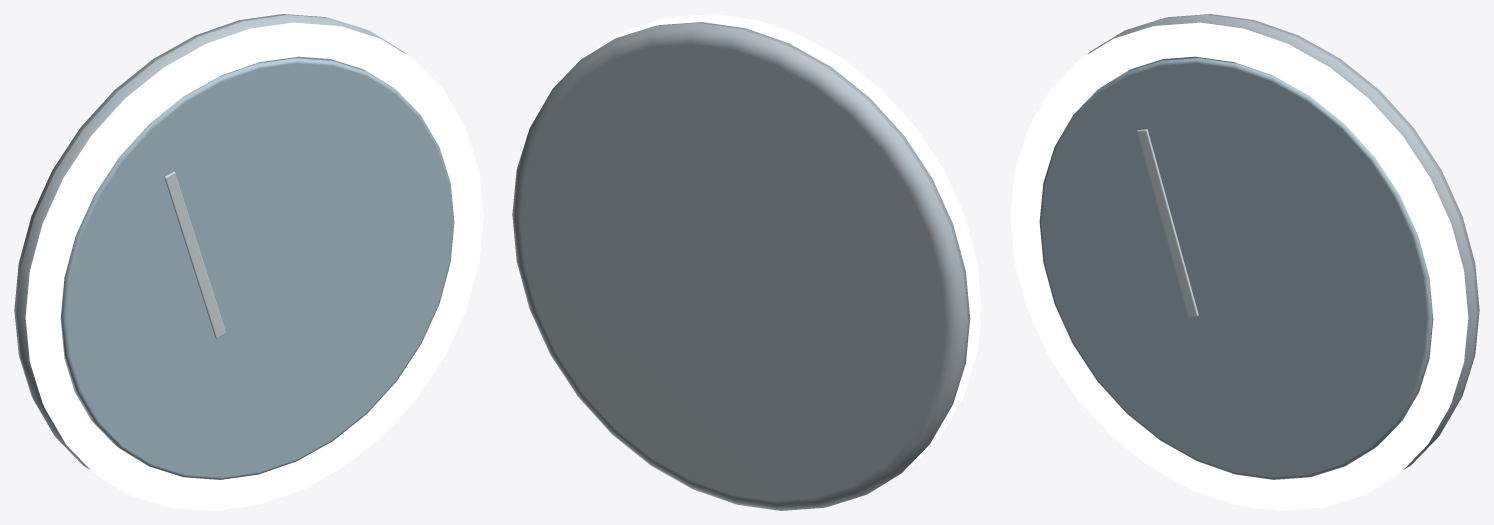
The model's file is bathroomMirrorBacklit.glb.
3 views of the same model, side by side, from view 1: azimuth 30°, elevation 25°; view 2: azimuth 150°, elevation 25°; view 3: azimuth 330°, elevation 25° (orthographic).
Parts seen in each view (by area): view 1: Round mirror glass, Mirror illuminated rim, Mirror wall housing, Mirror reflection; view 2: Mirror wall housing, Mirror illuminated rim; view 3: Round mirror glass, Mirror illuminated rim, Mirror wall housing, Mirror reflection.
Part boxes in pixels (x1=…): Round mirror glass: x1=61, y1=58, x2=454, y2=479; Mirror illuminated rim: x1=25, y1=22, x2=483, y2=510; Mirror wall housing: x1=14, y1=14, x2=405, y2=469; Mirror reflection: x1=164, y1=171, x2=225, y2=338; Mirror wall housing: x1=512, y1=22, x2=970, y2=510; Mirror illuminated rim: x1=589, y1=14, x2=981, y2=469; Round mirror glass: x1=1039, y1=58, x2=1432, y2=479; Mirror illuminated rim: x1=1010, y1=22, x2=1468, y2=510; Mirror wall housing: x1=1088, y1=14, x2=1479, y2=469; Mirror reflection: x1=1137, y1=129, x2=1198, y2=317.
Size of the model in its own units: 1.04 by 1.04 by 0.1108.
